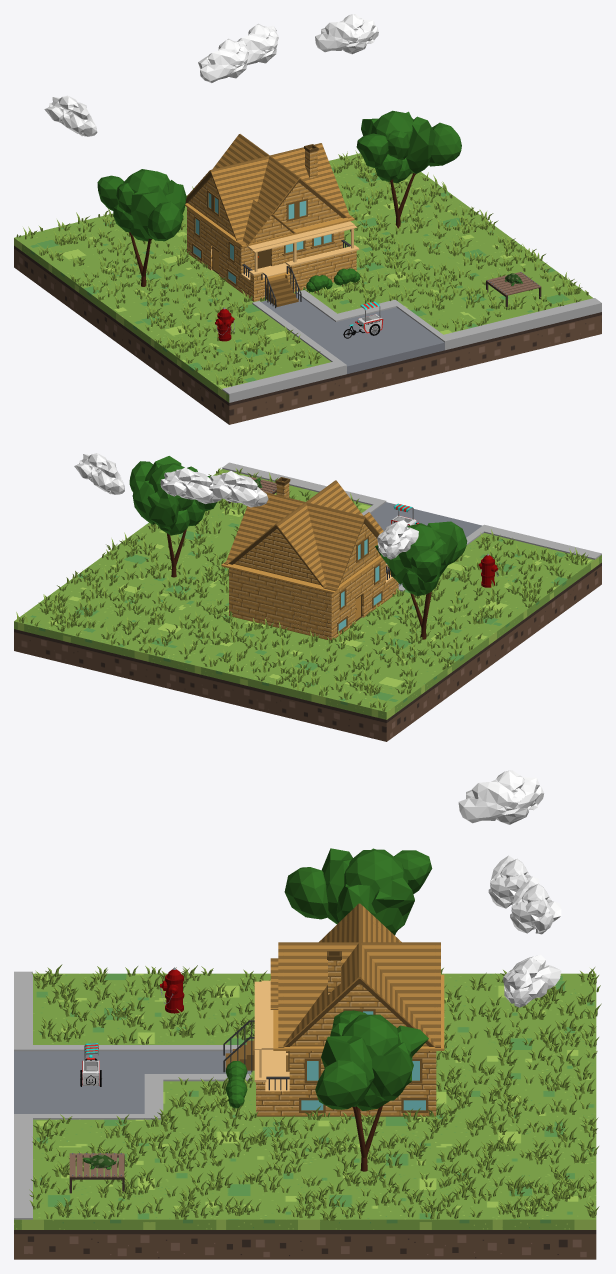
3 views of the same model, one above another, from view 1: azimuth 30°, elevation 25°; view 2: azimuth 150°, elevation 25°; view 3: azimuth 270°, elevation 25° (orthographic). The views are drawn at different scales.
Parts seen in each view (by area): view 1: Cube.006, Cube.508, Circle.012_Grass_0.192, Cube.007, tree, tree.001, Cube.009, VEHICLES_SNOWBAL_BIKE; view 2: Cube.006, Cube.508, Circle.012_Grass_0.192, Cube.007, tree.001, tree, OBJRANDOM_FIRE_HYDRANT; view 3: Cube.006, Circle.012_Grass_0.192, Cube.508, tree, Cube.007, tree.001, Cube.009, OBJRANDOM_FIRE_HYDRANT, VEHICLES_SNOWBAL_BIKE.
Boxes of the visible parts, left/top/right/bottom form: Cube.006: left=14, top=153, right=601, bottom=424; Cube.508: left=185, top=134, right=359, bottom=308; Circle.012_Grass_0.192: left=16, top=150, right=588, bottom=386; Cube.007: left=44, top=14, right=378, bottom=136; tree: left=356, top=110, right=461, bottom=228; tree.001: left=97, top=169, right=186, bottom=286; Cube.009: left=486, top=272, right=541, bottom=306; VEHICLES_SNOWBAL_BIKE: left=343, top=301, right=383, bottom=338; Cube.006: left=14, top=462, right=601, bottom=741; Cube.508: left=221, top=477, right=398, bottom=640; Circle.012_Grass_0.192: left=16, top=468, right=588, bottom=711; Cube.007: left=74, top=453, right=418, bottom=559; tree.001: left=375, top=521, right=467, bottom=639; tree: left=129, top=456, right=216, bottom=577; OBJRANDOM_FIRE_HYDRANT: left=478, top=554, right=498, bottom=587; Cube.006: left=14, top=971, right=596, bottom=1259; Circle.012_Grass_0.192: left=29, top=964, right=601, bottom=1220; Cube.508: left=223, top=903, right=444, bottom=1116; tree: left=315, top=1010, right=428, bottom=1171; Cube.007: left=458, top=770, right=561, bottom=1007; tree.001: left=284, top=848, right=432, bottom=935; Cube.009: left=69, top=1153, right=124, bottom=1193; OBJRANDOM_FIRE_HYDRANT: left=160, top=967, right=184, bottom=1013; VEHICLES_SNOWBAL_BIKE: left=80, top=1043, right=102, bottom=1086.
Bounding box in the file's own units: 4071 × 2192 × 4040.
37 materials, 4 textured.
